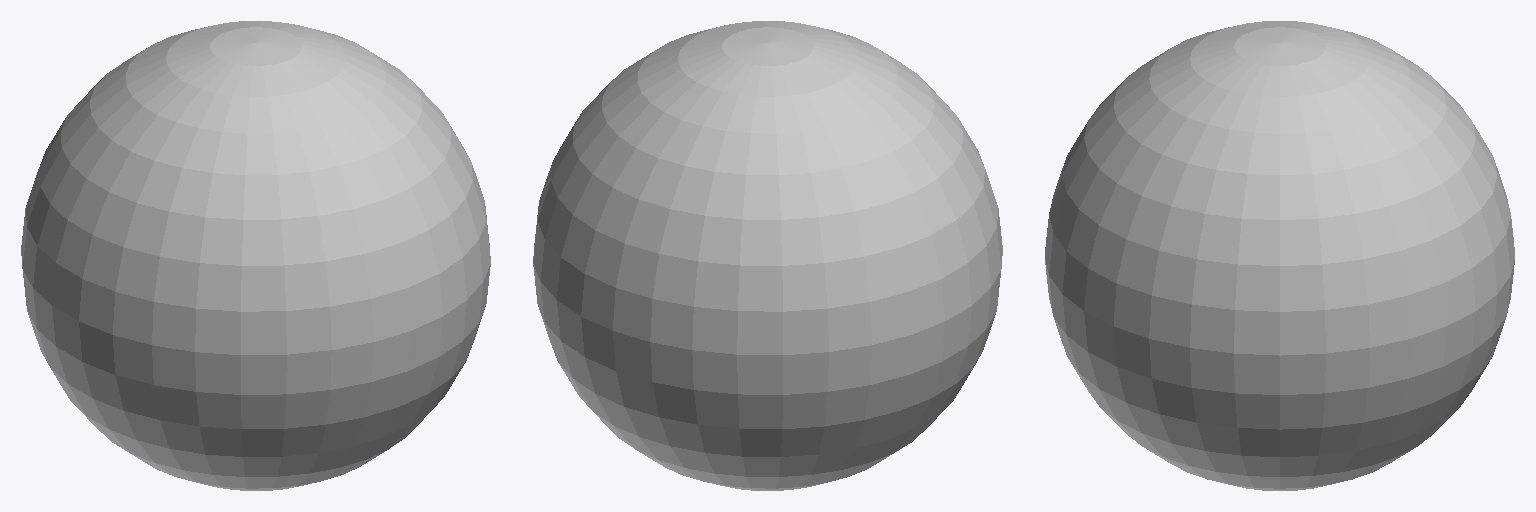
File: mercur.obj
3 views of the same model, side by side, from view 1: azimuth 30°, elevation 25°; view 2: azimuth 150°, elevation 25°; view 3: azimuth 270°, elevation 25° (orthographic).
Visible parts, largest first — view 1: Sphere; view 2: Sphere; view 3: Sphere.
Boxes of the visible parts, x1,y1,x2,y2 form: Sphere: [21, 21, 490, 490]; Sphere: [533, 21, 1002, 490]; Sphere: [1045, 21, 1514, 490].
Size of the model in its own units: 3.55 by 3.55 by 3.55.